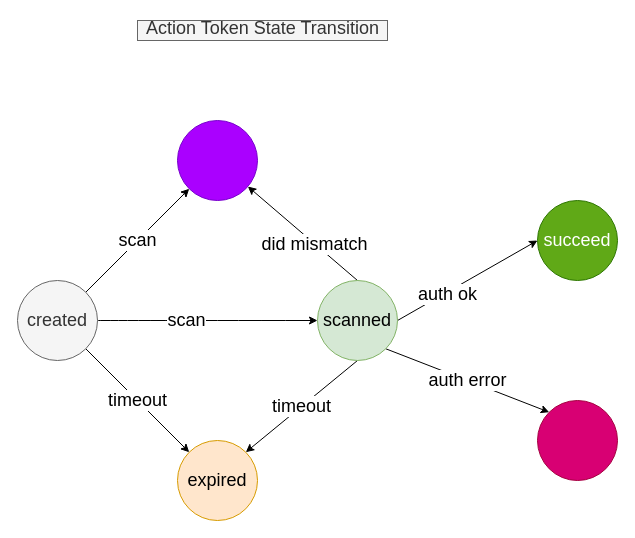
The diagram is 635 pixels wide and 538 high, and some of its shapes have lost their labels. The centre of each missing label's shape, as x and y in pixels:
error: [577,440]
forbidden: [217,160]
